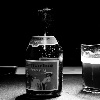beer: (21, 6, 64, 97)
